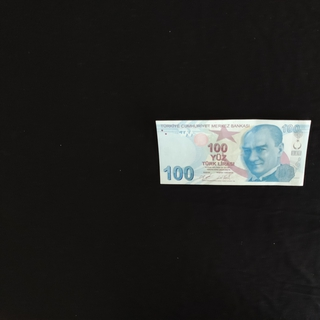100TLFront: (154, 119, 312, 186)
